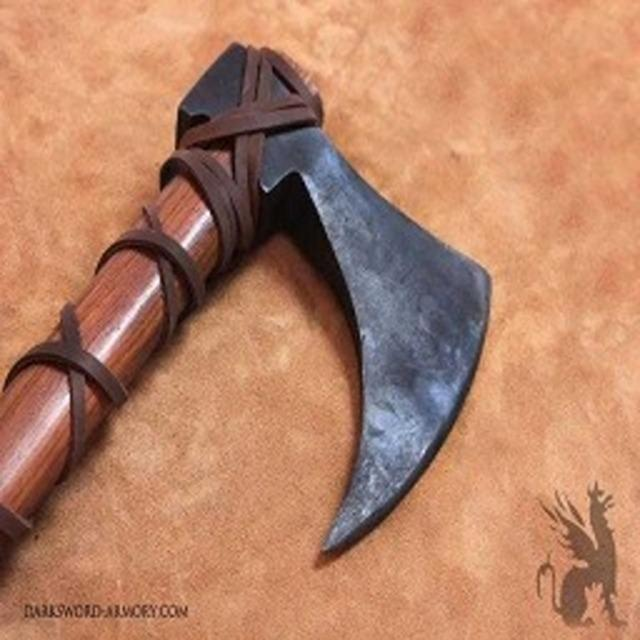ax: (0, 30, 508, 590)
